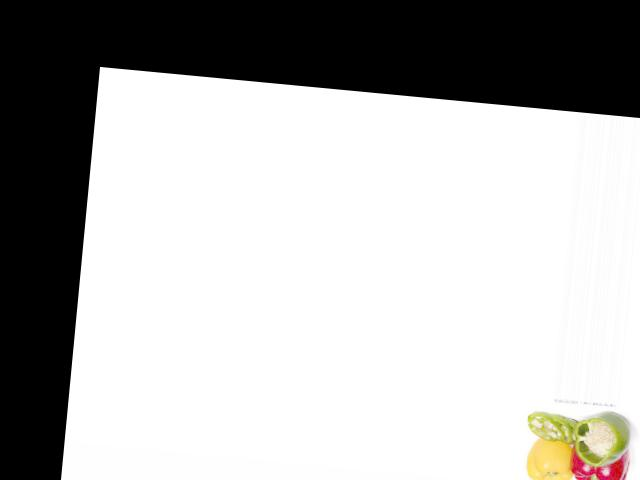bell_pepper: (570, 413, 637, 471)
